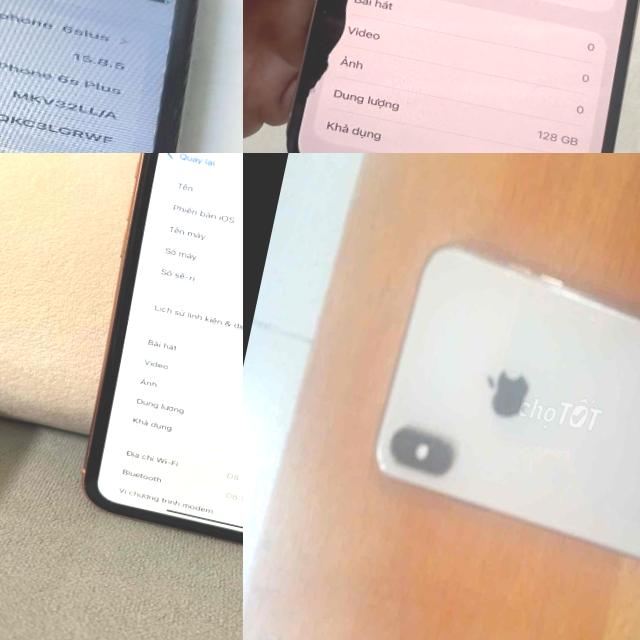gen_12_13: (267, 0, 640, 153)
gen_6: (0, 0, 241, 153)
gen_x_xs: (346, 231, 640, 599), (57, 153, 243, 574)
screen_defect: (278, 0, 399, 152)
